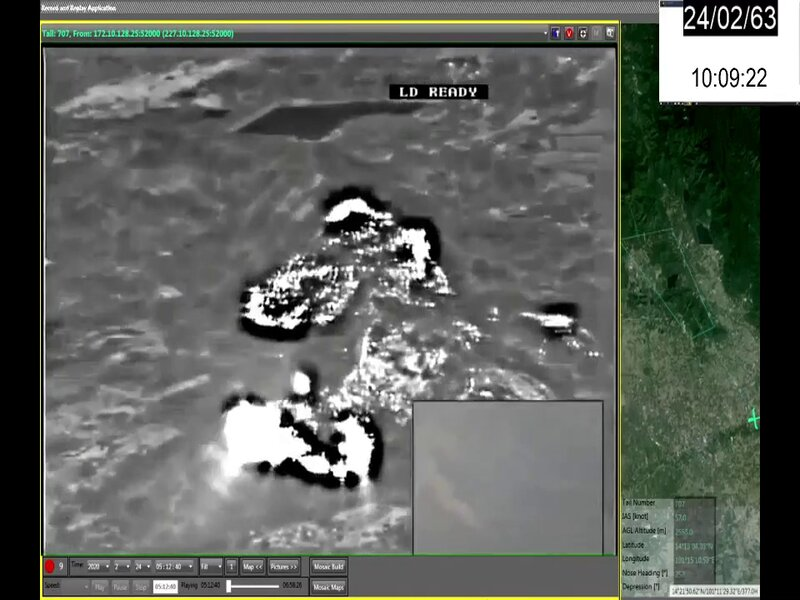Fire: (217, 185, 412, 491)
